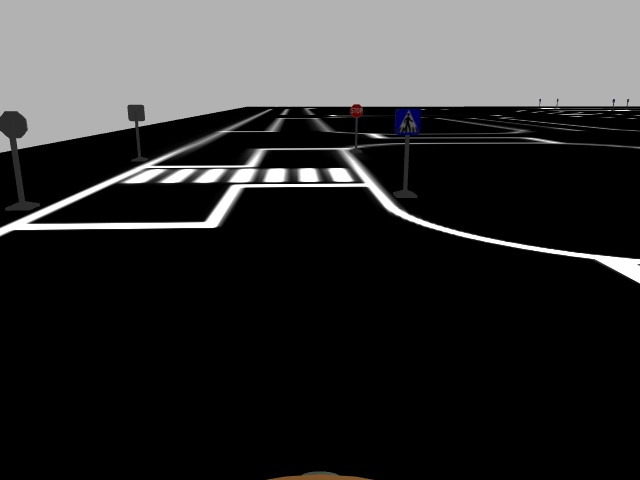crosswalk: (393, 105, 422, 138)
stop: (348, 103, 365, 119)
